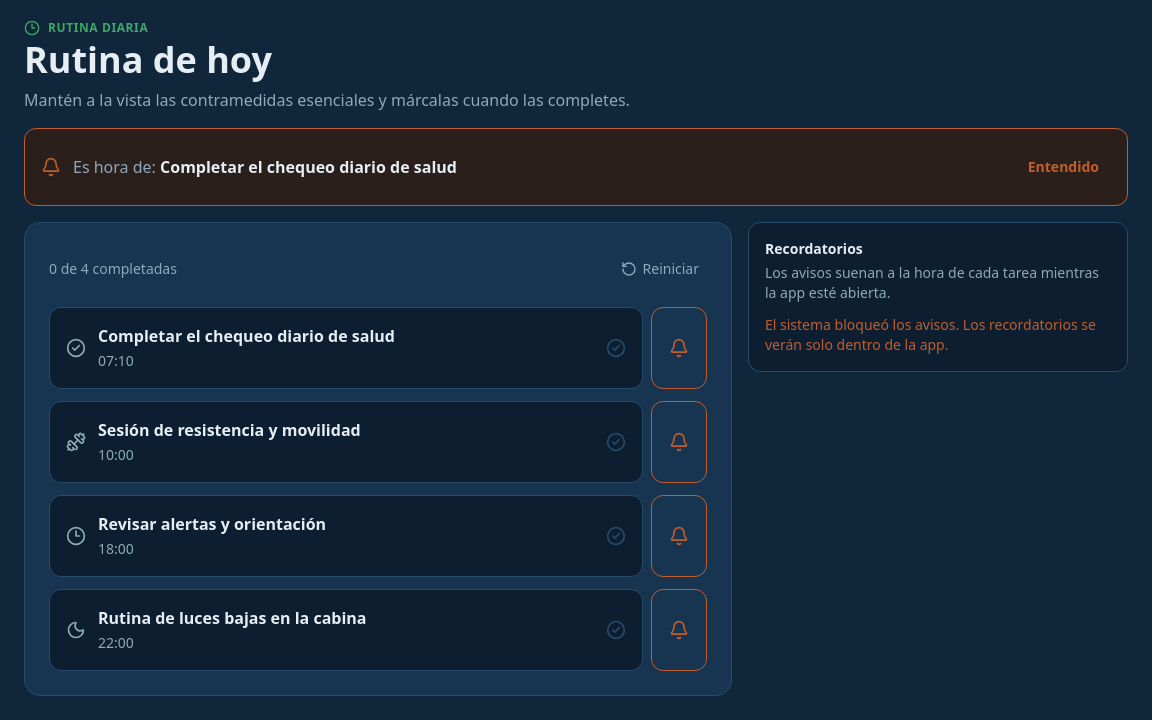
Test: pantallas › muestra el aviso cuando llega la hora y se puede cerrar
Expected: the message "Es hora de: Completar el chequeo diario de salud Entendido" is shown, [24, 128, 1128, 206]
Click the button "Entendido": (1063, 167) [1016, 145, 1111, 189]
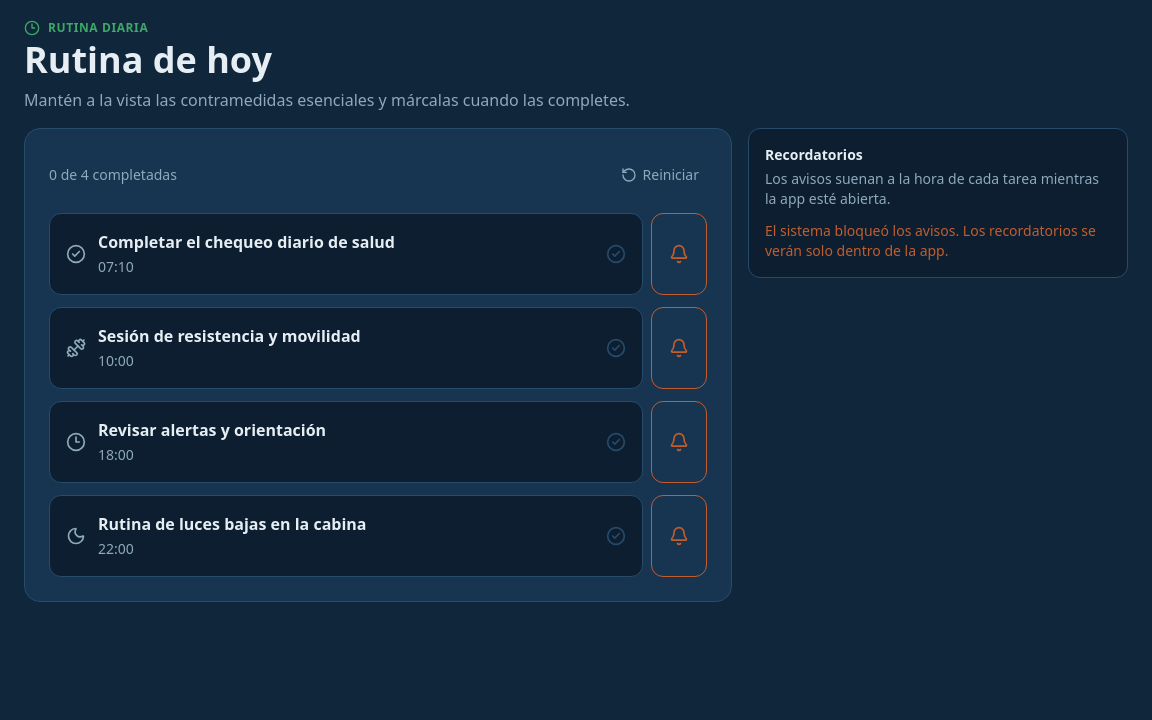
Now the message "Es hora de:Completar el chequeo diario de salud Entendido" is gone
